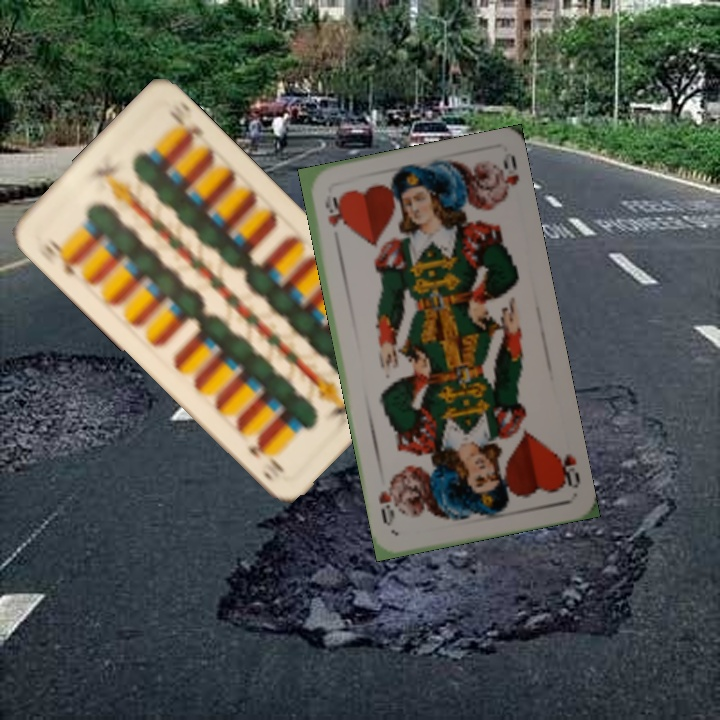E10: (42, 235, 84, 278)
HO: (551, 449, 583, 491), (320, 191, 342, 230)
